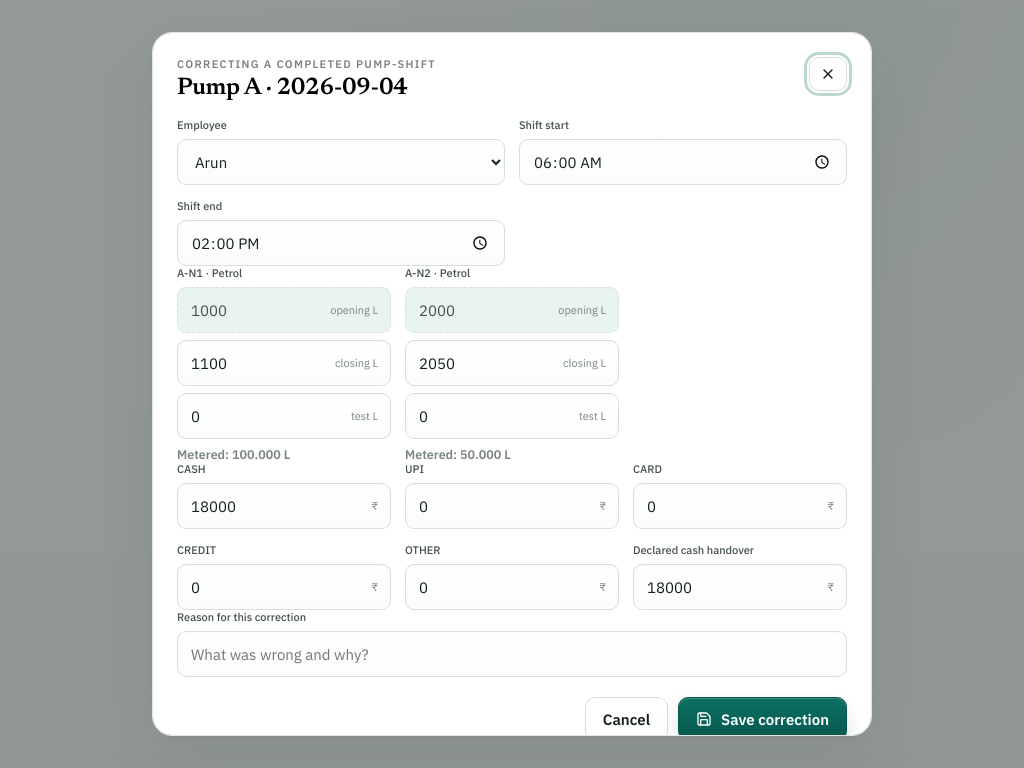
Test case: PumpShiftCorrectionDialog › submits the correction and shows the before/after summary including any cascaded entry
Type "Mistyped closing reading" into the field with placeholder "What was wrong and why?" at (512, 654), box [177,631,847,677]
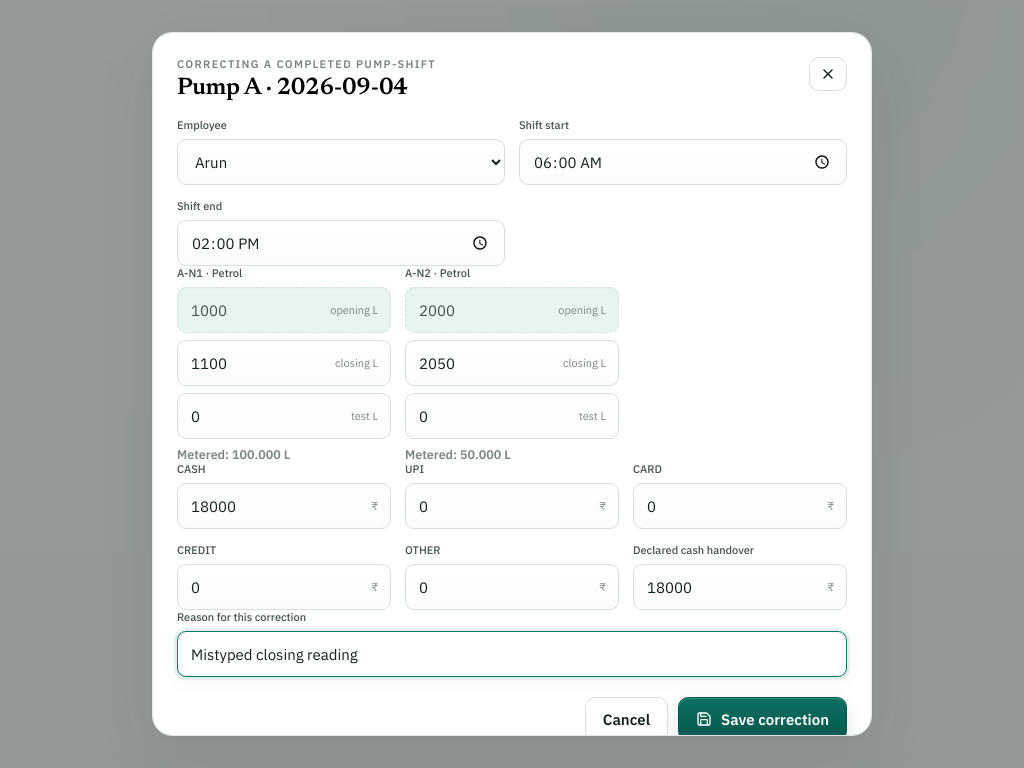
Click the button "Save correction" at (763, 719), box [678,697,847,741]
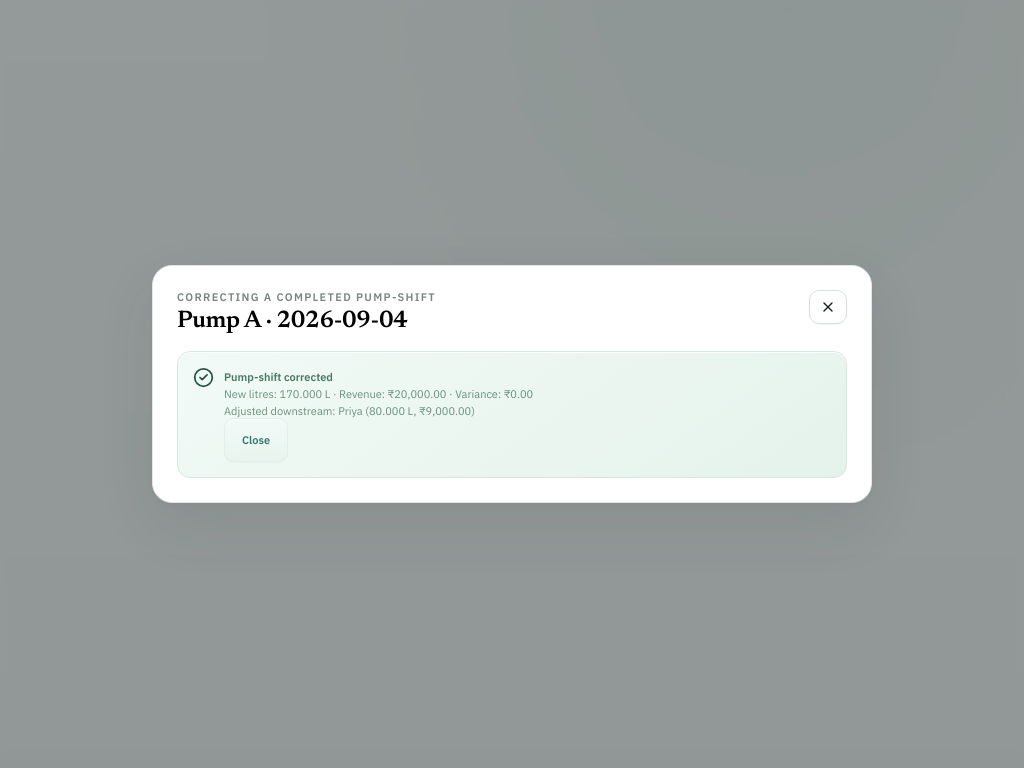
Expected: the text "Pump-shift corrected" is shown, [224,370,333,384]
Expected: the text "170.000 L" is shown, [224,387,533,401]
Expected: the text "Adjusted downstream: Priya (80.000 L, ₹9,000.00)" is shown, [224,404,475,418]
